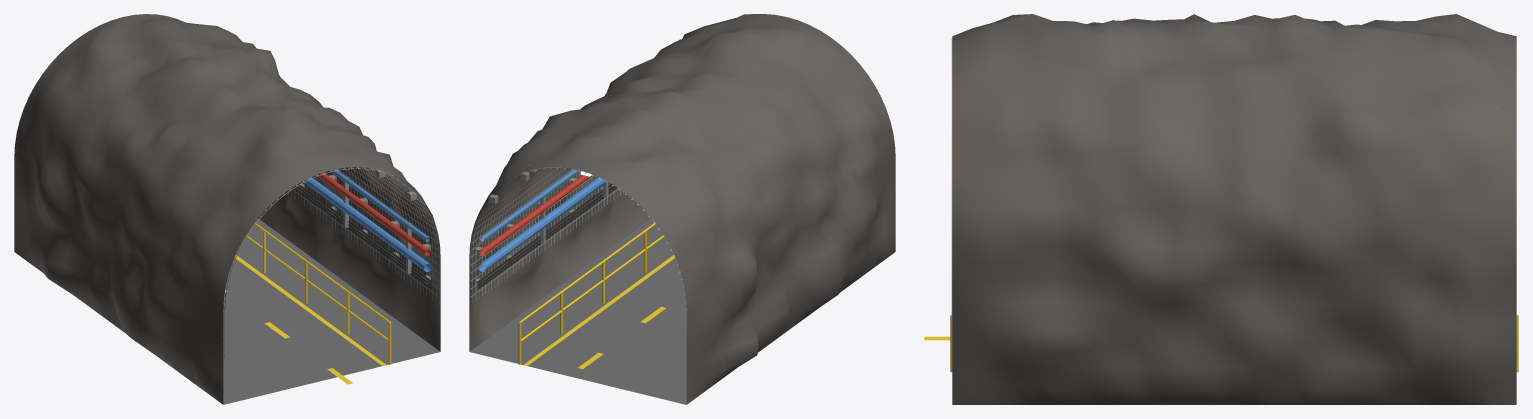
Rendered from UG_Tunnel_10m.glb.
3 renders of one model, left to right at view 1: azimuth 30°, elevation 25°; view 2: azimuth 150°, elevation 25°; view 3: azimuth 270°, elevation 25°, orthographic. The views are drawn at different scales.
Visible parts, largest first — view 1: UG_Tunnel_10m; view 2: UG_Tunnel_10m; view 3: UG_Tunnel_10m.
Boxes of the visible parts, x1,y1,x2,y2 form: UG_Tunnel_10m: (14, 14, 440, 404); UG_Tunnel_10m: (469, 14, 895, 404); UG_Tunnel_10m: (924, 14, 1518, 404).
Size of the model in its own units: 7.1 by 6.06 by 10.53.
